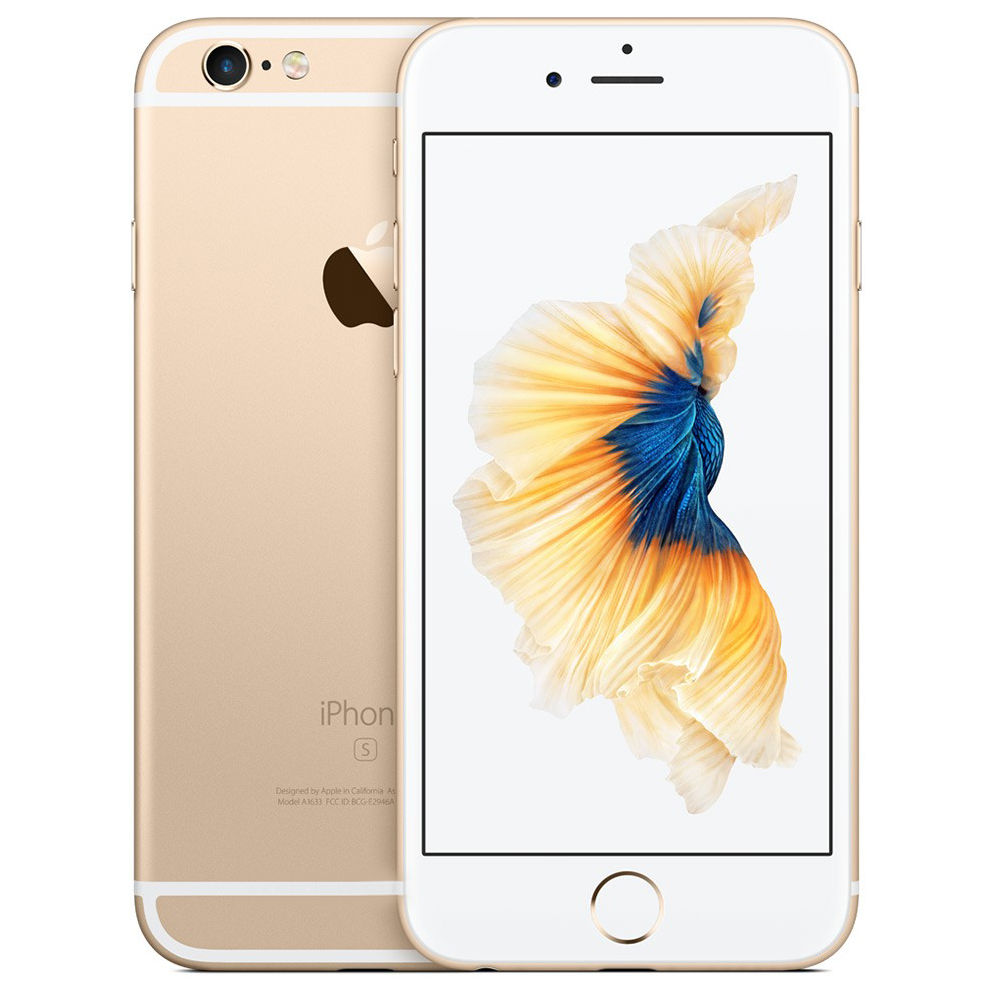Apple: (318, 216, 411, 334)
